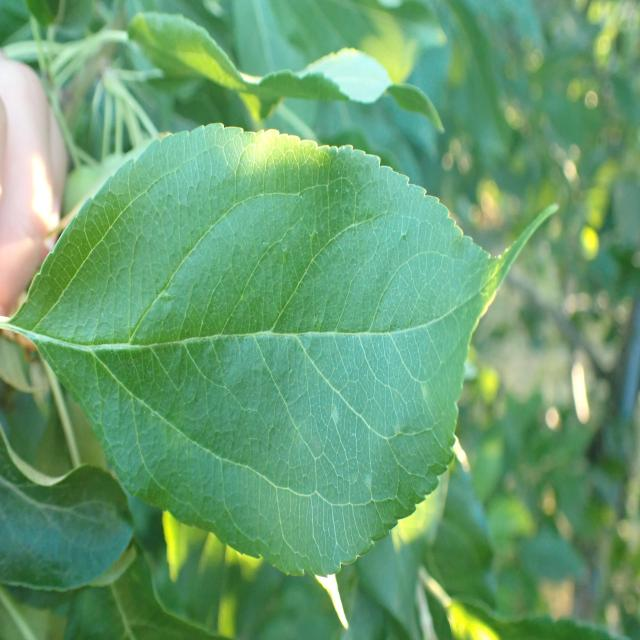healthy: (16, 122, 560, 577), (0, 421, 138, 592)
